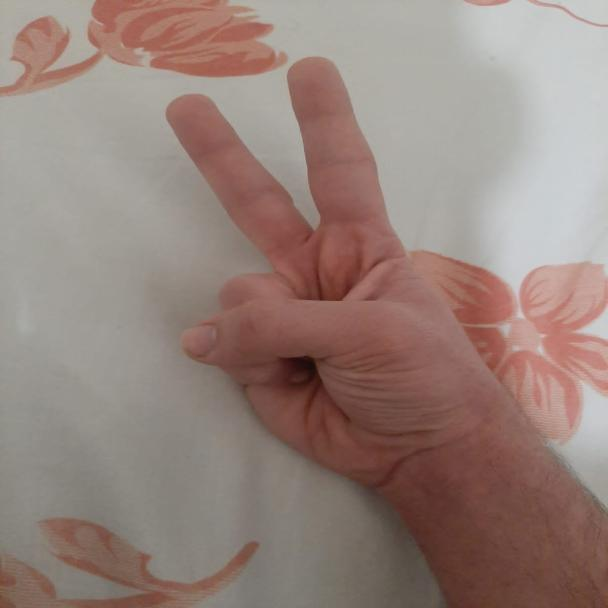two: (154, 49, 520, 466)
